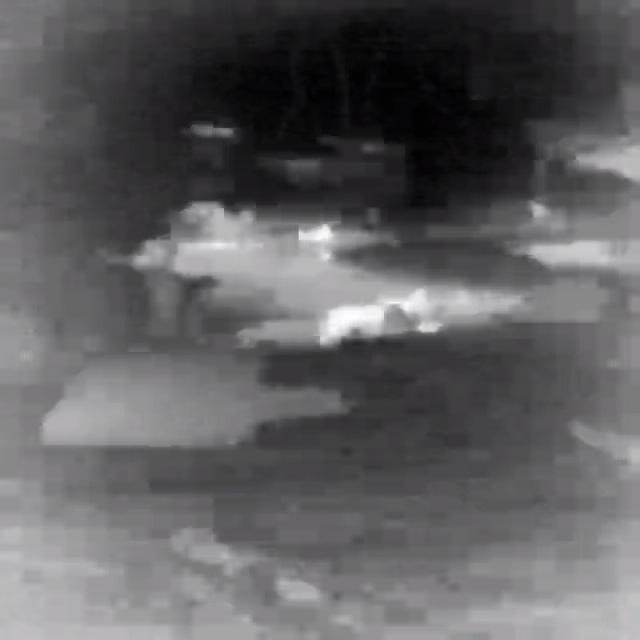cheetah: (324, 301, 388, 349)
